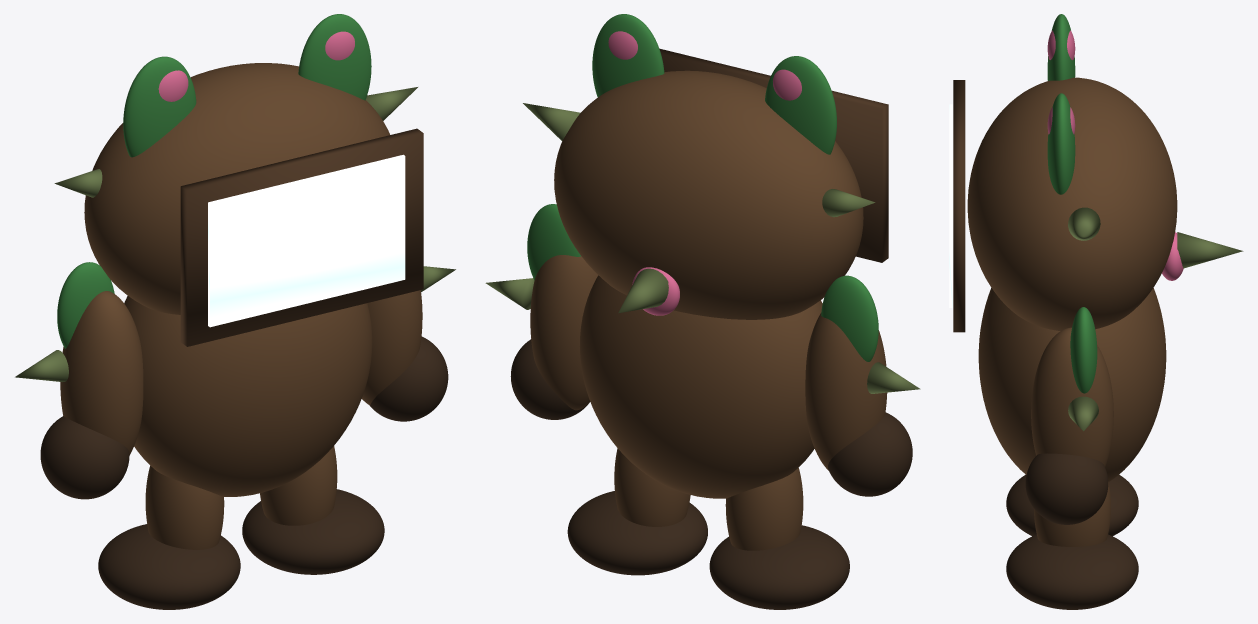
The model's file is thorn.glb.
The picture shows the model from 3 angles, left to right: view 1: azimuth 30°, elevation 25°; view 2: azimuth 150°, elevation 25°; view 3: azimuth 270°, elevation 25°; orthographic projection. The views are drawn at different scales.
Visible parts, largest first — view 1: body, head, face_screen, face_frame, arm_L, foot_L, foot_R, hand_L, leg_L, arm_R, leaf_head_L, leaf_head_R (+8 smaller); view 2: head, body, foot_L, arm_L, face_frame, foot_R, arm_R, leg_L, hand_L, leaf_head_L, leaf_head_R, leg_R (+11 smaller); view 3: head, body, foot_R, arm_R, hand_R, face_frame, foot_L, leaf_head_R, leg_R, leaf_shoulder_R, thorn_back_0, leaf_head_L (+4 smaller).
Boxes of the visible parts, bbox=[...] form: body: bbox=[124, 296, 372, 496]; head: bbox=[84, 63, 389, 314]; face_screen: bbox=[208, 154, 405, 327]; face_frame: bbox=[180, 128, 423, 346]; arm_L: bbox=[60, 291, 143, 454]; foot_L: bbox=[98, 524, 240, 609]; foot_R: bbox=[242, 489, 384, 574]; hand_L: bbox=[40, 416, 129, 499]; leg_L: bbox=[145, 465, 224, 549]; arm_R: bbox=[361, 290, 422, 405]; leaf_head_L: bbox=[123, 56, 196, 157]; leaf_head_R: bbox=[298, 14, 371, 100]; head: bbox=[554, 70, 863, 319]; body: bbox=[579, 275, 822, 498]; foot_L: bbox=[709, 525, 849, 609]; arm_L: bbox=[805, 313, 887, 470]; face_frame: bbox=[659, 48, 888, 262]; foot_R: bbox=[567, 491, 707, 575]; arm_R: bbox=[530, 255, 598, 410]; leg_L: bbox=[725, 468, 803, 550]; hand_L: bbox=[828, 412, 912, 496]; leaf_head_L: bbox=[765, 56, 836, 154]; leaf_head_R: bbox=[592, 14, 664, 97]; leg_R: bbox=[614, 448, 690, 526]; head: bbox=[967, 77, 1177, 330]; body: bbox=[978, 288, 1166, 481]; foot_R: bbox=[1006, 534, 1138, 609]; arm_R: bbox=[1031, 327, 1113, 466]; hand_R: bbox=[1025, 453, 1108, 524]; face_frame: bbox=[953, 80, 965, 332]; foot_L: bbox=[1006, 474, 1138, 536]; leaf_head_R: bbox=[1047, 93, 1075, 194]; leg_R: bbox=[1034, 481, 1110, 546]; leaf_shoulder_R: bbox=[1070, 307, 1097, 393]; thorn_back_0: bbox=[1177, 232, 1243, 268]; leaf_head_L: bbox=[1047, 14, 1075, 80].
Bounding box in the file's own units: 0.9106 × 1.08 × 0.5644.
